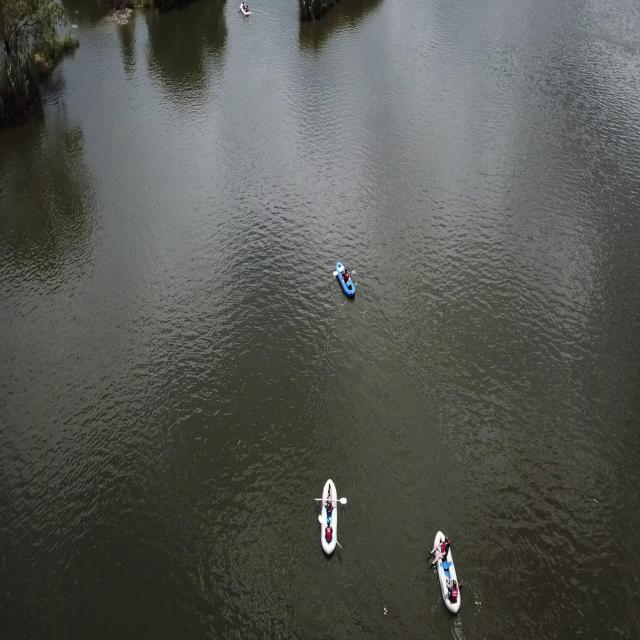kayak: (426, 528, 470, 628), (313, 469, 347, 562), (336, 259, 356, 303), (238, 3, 252, 20)
